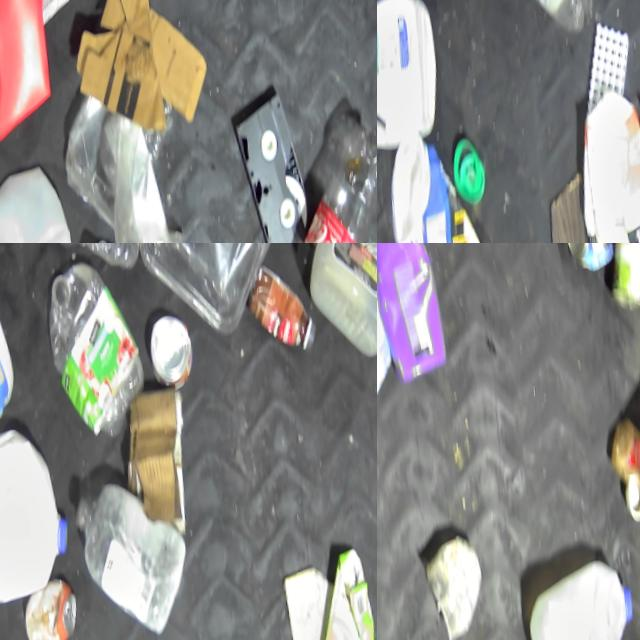can: (426, 545, 488, 640), (18, 577, 82, 640), (604, 243, 640, 313), (560, 243, 617, 285)
milk_jug: (0, 427, 78, 607), (529, 574, 640, 640), (0, 170, 84, 243)
non_white_jug: (377, 243, 451, 379), (304, 243, 377, 367), (0, 0, 59, 146)
plastic_bottle: (264, 138, 377, 243), (487, 0, 610, 46)
